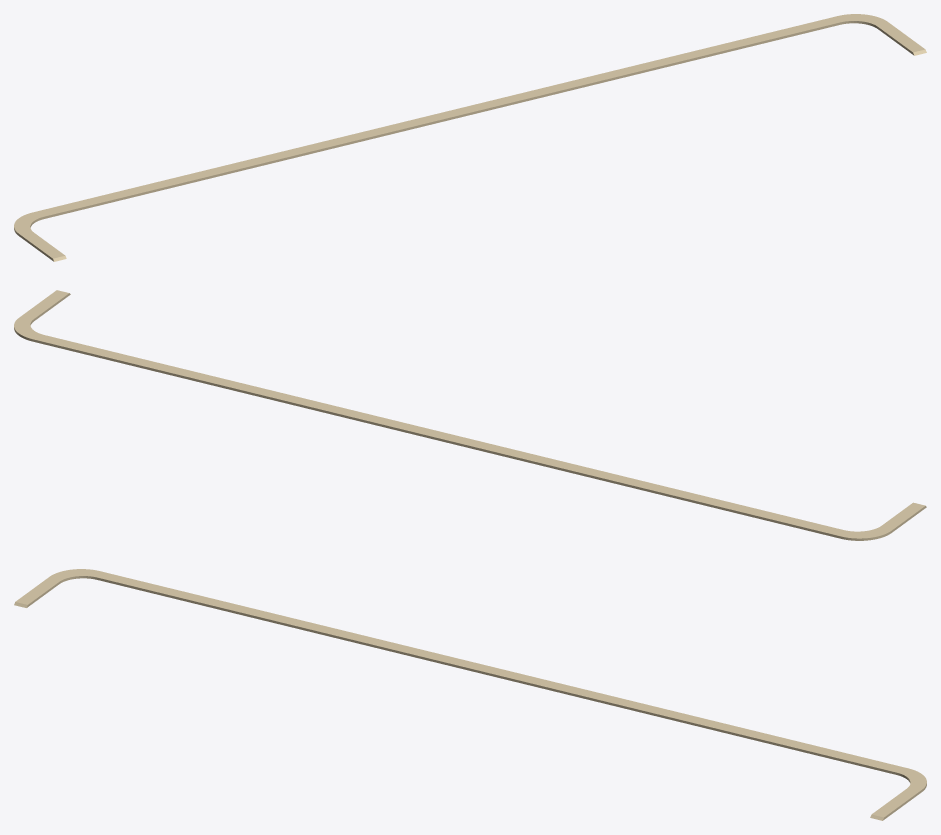
The model's file is pan-side-gasket-2.glb.
3 views of the same model, one above another, from view 1: azimuth 30°, elevation 25°; view 2: azimuth 150°, elevation 25°; view 3: azimuth 330°, elevation 25° (orthographic).
Visible parts, largest first — view 1: world; view 2: world; view 3: world.
Boxes of the visible parts, x1=… form: world: x1=14, y1=14, x2=926, y2=261; world: x1=14, y1=290, x2=926, y2=540; world: x1=14, y1=569, x2=926, y2=820.
Size of the model in its own units: 0.762 by 0.002 by 0.0875.
